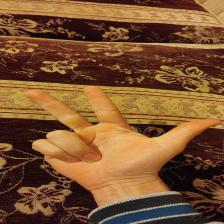three: (22, 86, 219, 184)
